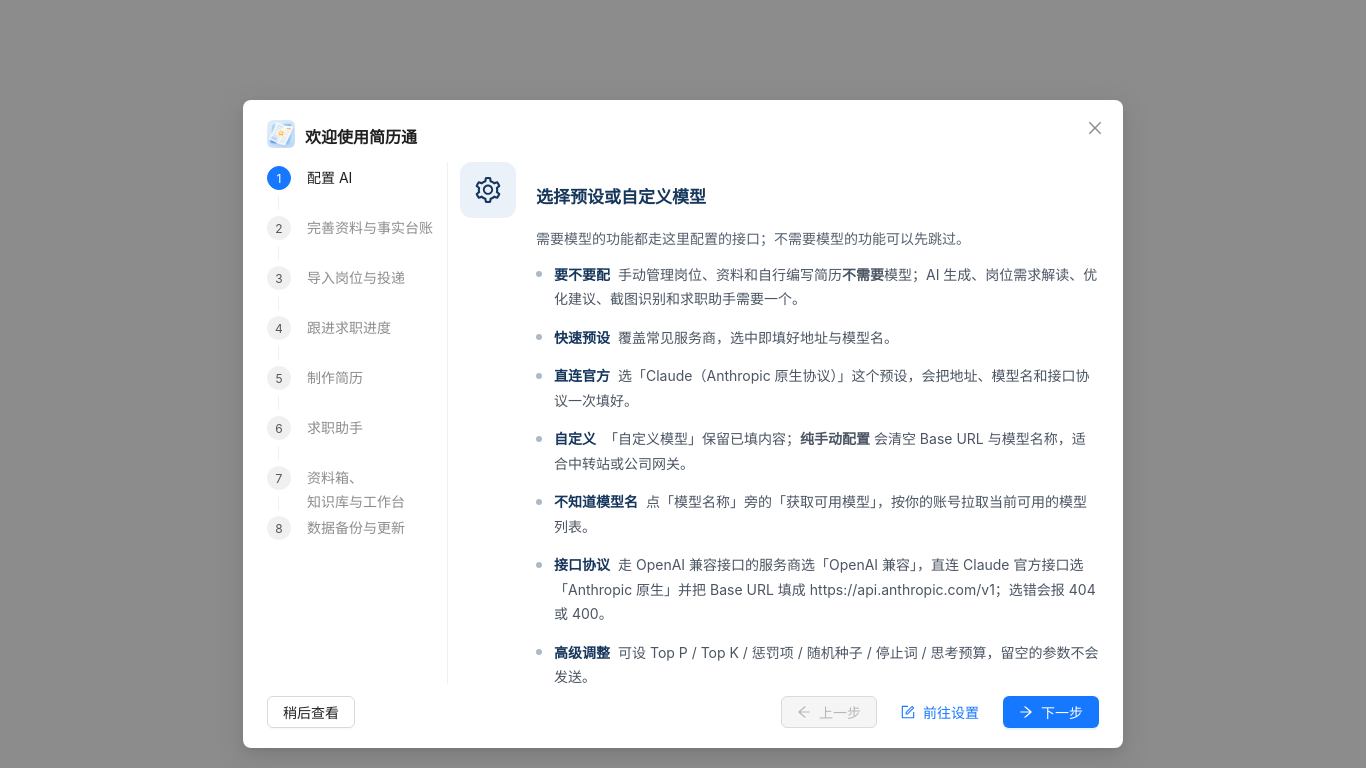
Test: UserGuideModal › explains the layout diagnosis and auto-fit on the resume step
The width and height of the screenshot is (1366, 768).
Click the button "下一步": point(1051, 712) [1003,696,1099,728]
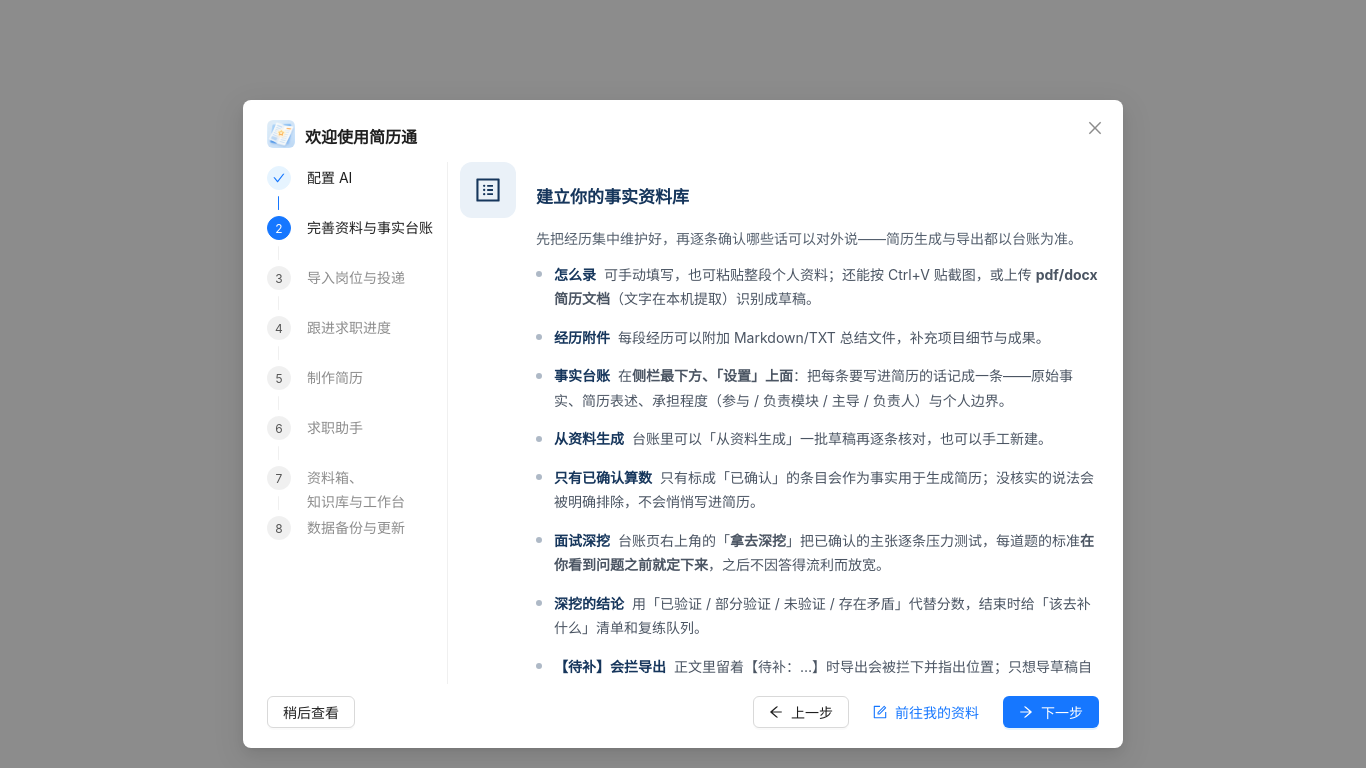
Click the button "下一步": point(1051, 712) [1003,696,1099,728]
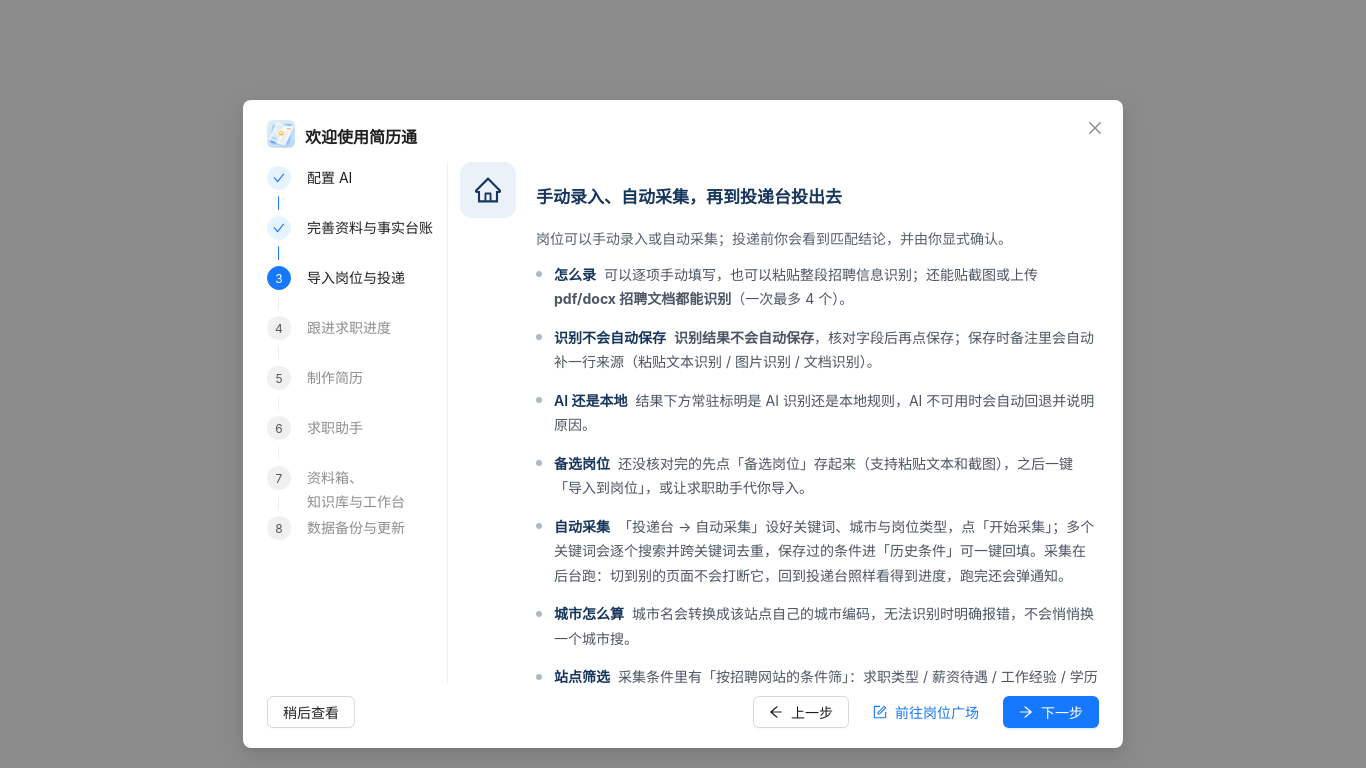
Click the button "下一步": point(1051, 712) [1003,696,1099,728]
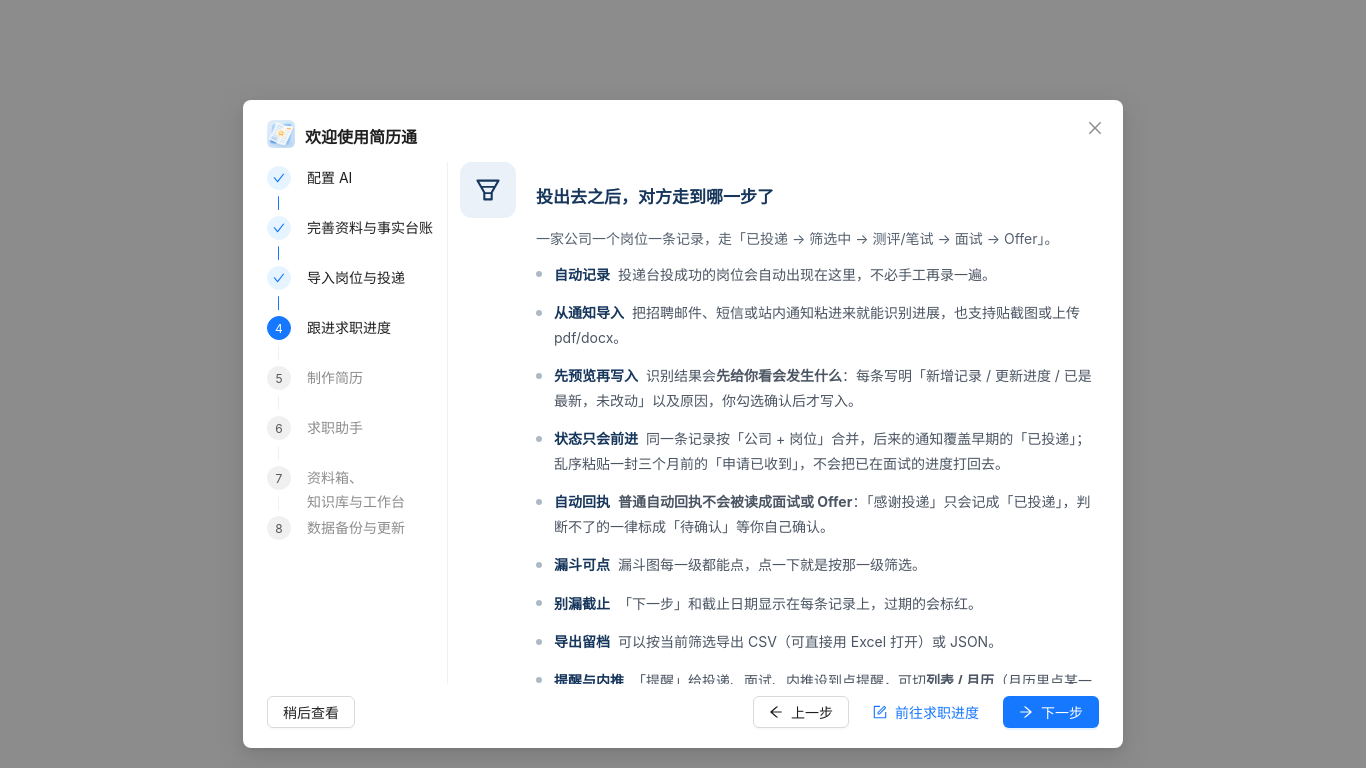
Click the button "下一步": point(1051, 712) [1003,696,1099,728]
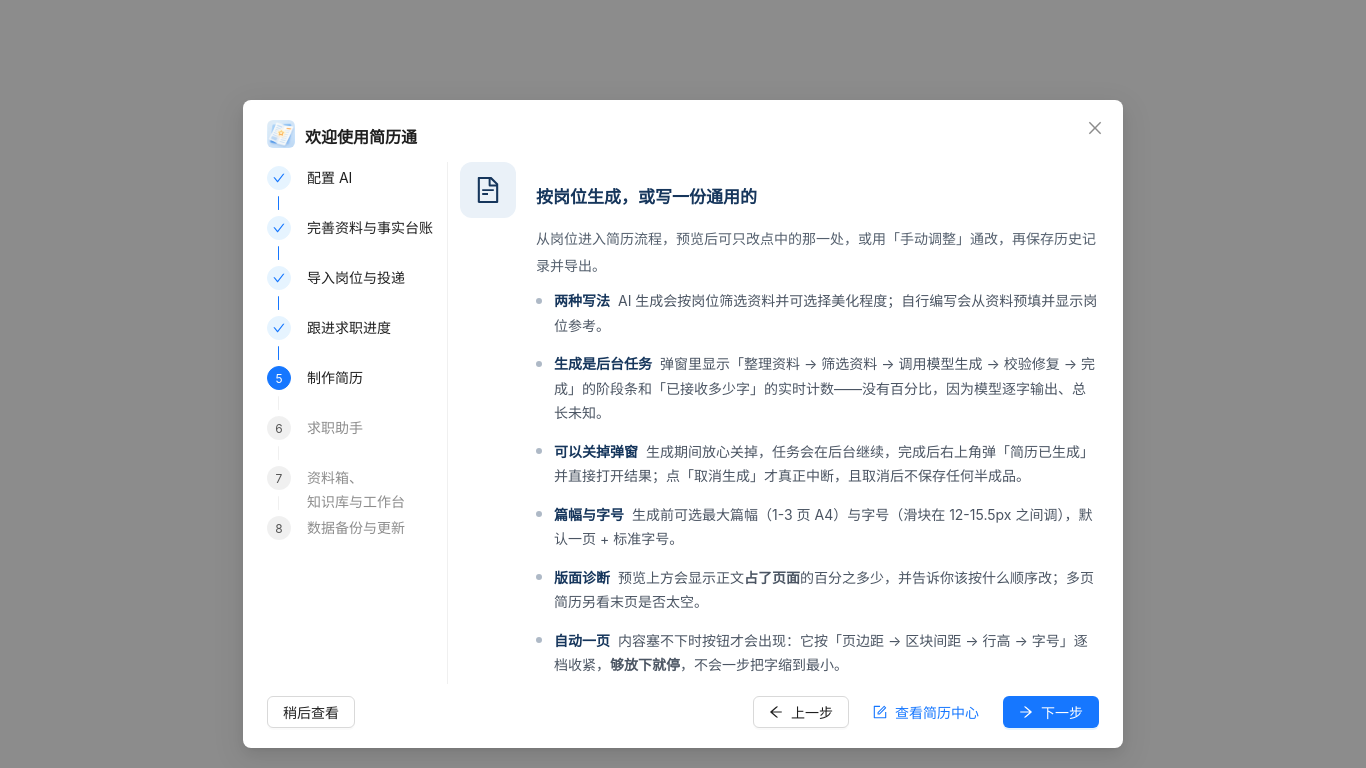
Now the text "版面诊断" is shown, box [554,569,610,586]
Now the text "占了页面" is shown, box [744,569,800,586]
Now the text "够放下就停" is shown, box [610,656,680,673]
